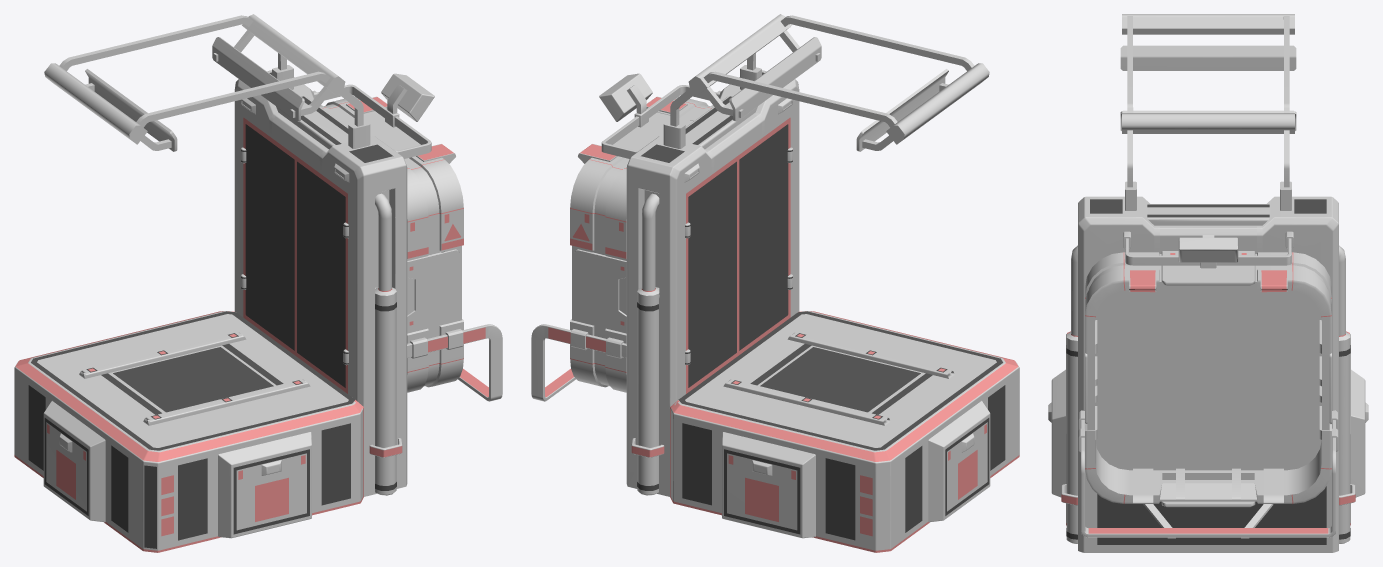
The model's file is Provider-Station.fbx.
3 views of the same model, side by side, from view 1: azimuth 30°, elevation 25°; view 2: azimuth 150°, elevation 25°; view 3: azimuth 270°, elevation 25° (orthographic).
Parts seen in each view (by area): view 1: ProviderStation; view 2: ProviderStation; view 3: ProviderStation.
Part boxes in pixels (x1=…): ProviderStation: x1=14, y1=14, x2=502, y2=552; ProviderStation: x1=531, y1=14, x2=1019, y2=552; ProviderStation: x1=1048, y1=14, x2=1368, y2=552.
Size of what is drawn, in the model's own units: 373 by 388 by 270.
